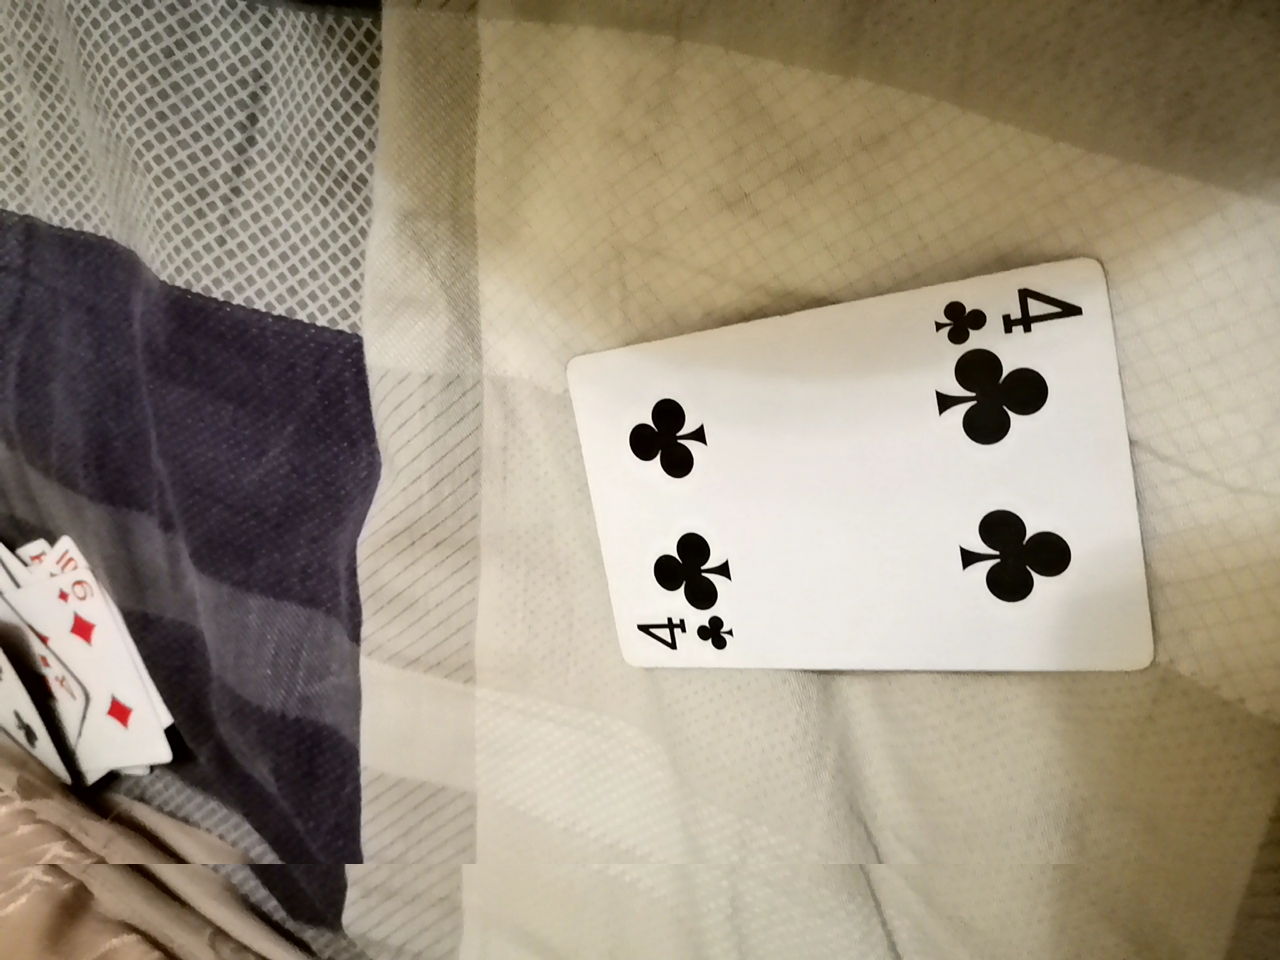mh 4: (570, 276, 1137, 687)
